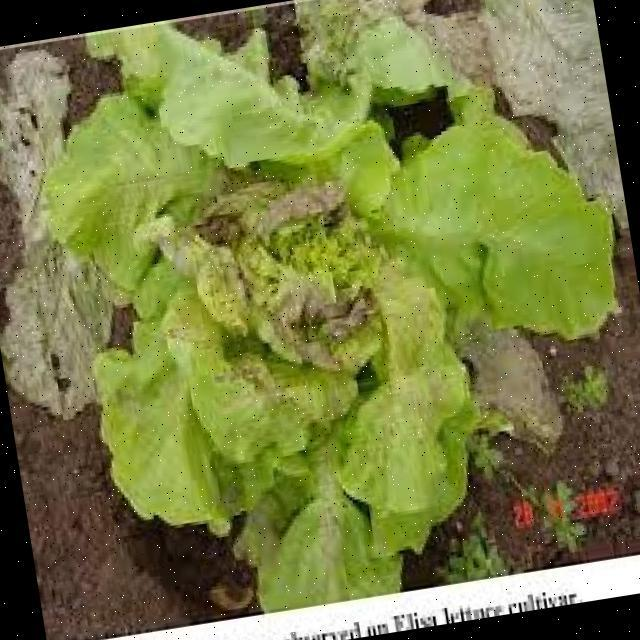Lettuce Mosaic Virus: (99, 82, 480, 557)
